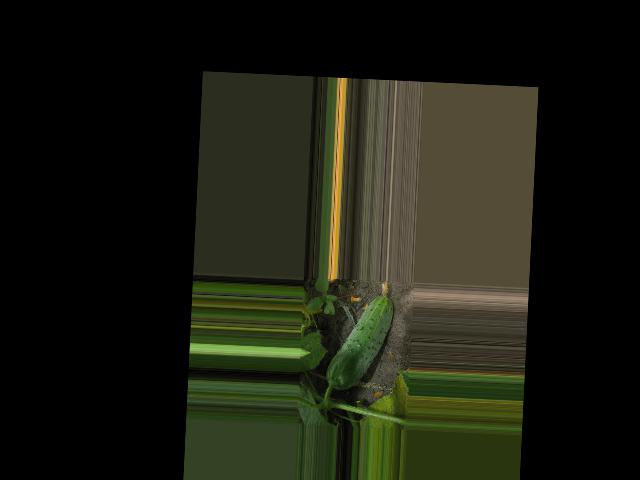cucumber: (325, 278, 395, 391)
